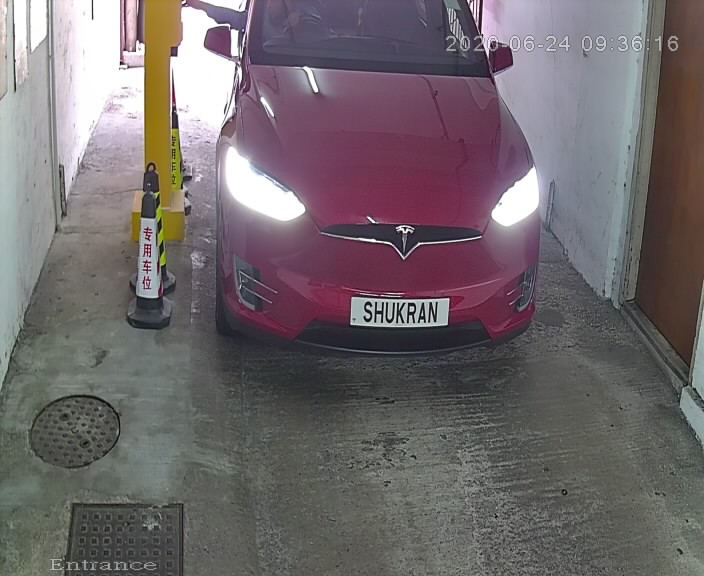Car: (193, 1, 559, 391)
License Plate: (344, 294, 456, 332)
